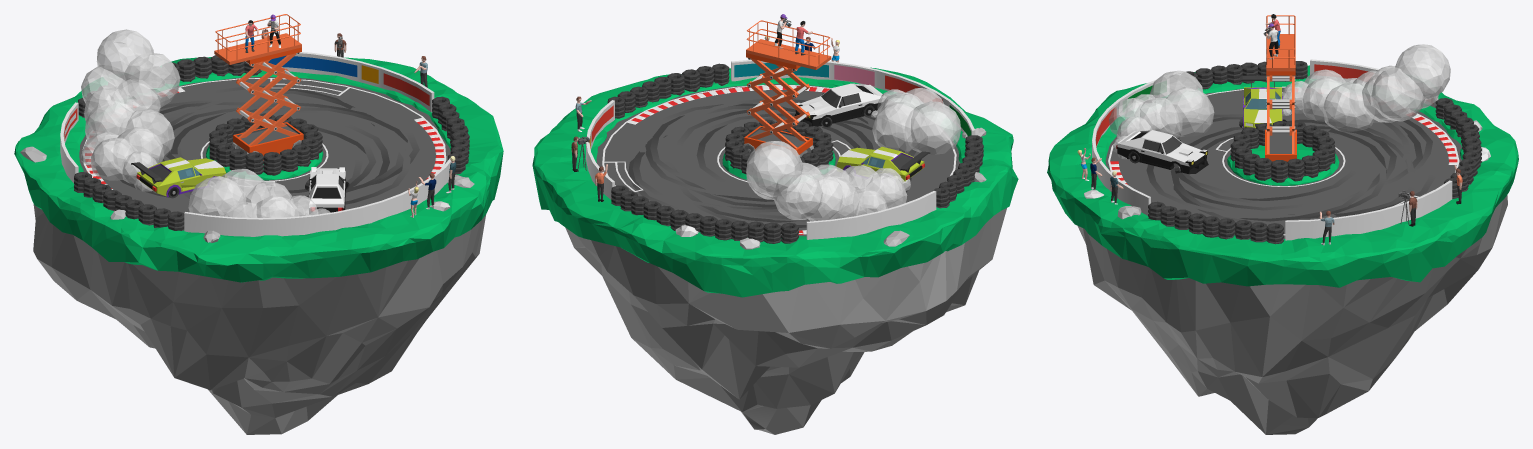
File: land_31.fbx
3 views of the same model, side by side, from view 1: azimuth 30°, elevation 25°; view 2: azimuth 150°, elevation 25°; view 3: azimuth 270°, elevation 25° (orthographic). The views are drawn at different scales.
Visible parts, largest first — view 1: polySurface12513, polySurface12511.001, pCylinder865, pCube3855, polySurface12533, polySurface12525, polySurface12532, polySurface12531, pasted__polySurface16519, pCube3834, polySurface12515, polySurface12512 (+1 smaller); view 2: polySurface12513, polySurface12511.001, pCube3855, pCylinder865, polySurface12525, polySurface12533, polySurface12531, polySurface12532, pCube3834, pasted__polySurface16519, polySurface12515, polySurface12512; view 3: polySurface12513, polySurface12511.001, pCube3855, pCylinder865, polySurface12531, polySurface12533, polySurface12532, polySurface12525, pCube3834, pasted__polySurface16519, polySurface12511, polySurface12515 (+1 smaller).
Part boxes in pixels (x1,y1,x2,y2): polySurface12513: [14, 57, 503, 434]; polySurface12511.001: [79, 77, 450, 215]; pCylinder865: [60, 52, 451, 236]; pCube3855: [110, 85, 419, 214]; polySurface12533: [81, 29, 180, 134]; polySurface12525: [214, 14, 303, 160]; polySurface12532: [81, 100, 174, 193]; polySurface12531: [188, 169, 330, 217]; pasted__polySurface16519: [131, 157, 226, 198]; pCube3834: [305, 167, 349, 214]; polySurface12515: [85, 87, 444, 189]; polySurface12512: [82, 78, 446, 181]; polySurface12513: [532, 67, 1018, 434]; polySurface12511.001: [596, 83, 960, 236]; pCube3855: [628, 98, 919, 227]; pCylinder865: [586, 59, 975, 239]; polySurface12525: [742, 20, 831, 156]; polySurface12533: [746, 141, 844, 220]; polySurface12531: [871, 88, 961, 154]; polySurface12532: [810, 164, 910, 221]; pCube3834: [794, 83, 886, 128]; pasted__polySurface16519: [836, 146, 930, 181]; polySurface12515: [627, 85, 829, 234]; polySurface12512: [602, 85, 956, 233]; polySurface12513: [1047, 65, 1518, 434]; polySurface12511.001: [1105, 87, 1461, 238]; pCube3855: [1146, 100, 1435, 225]; pCylinder865: [1092, 59, 1452, 240]; polySurface12531: [1109, 70, 1214, 159]; polySurface12533: [1362, 44, 1450, 122]; polySurface12532: [1282, 69, 1384, 131]; polySurface12525: [1265, 15, 1296, 161]; pCube3834: [1116, 130, 1208, 174]; pasted__polySurface16519: [1239, 75, 1286, 128]; polySurface12511: [1227, 143, 1339, 185]; polySurface12515: [1110, 114, 1457, 184].
Size of the model in its own units: 21.14 by 20.49 by 21.59.
